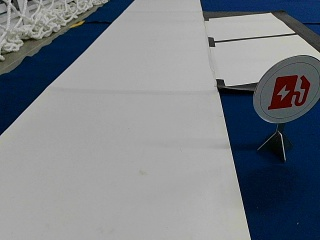battery: (253, 53, 319, 124)
